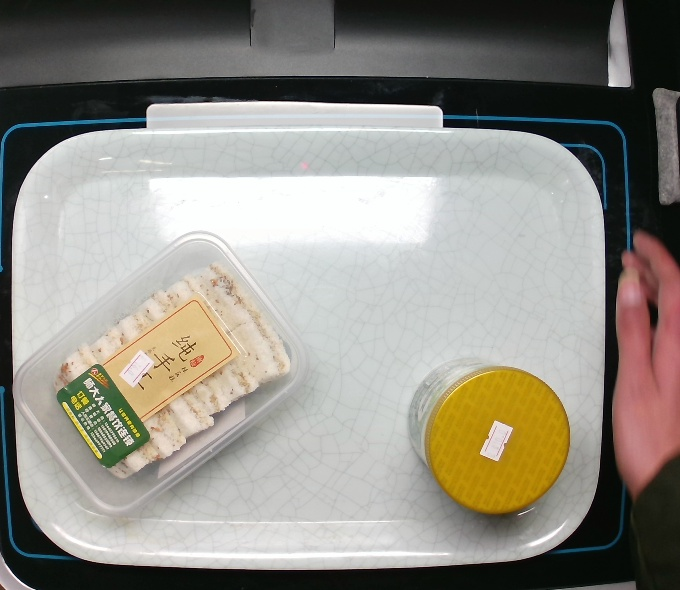wcq-GuiHuaGao: (10, 230, 310, 519)
wcq-MaiYaTang: (406, 354, 572, 518)
